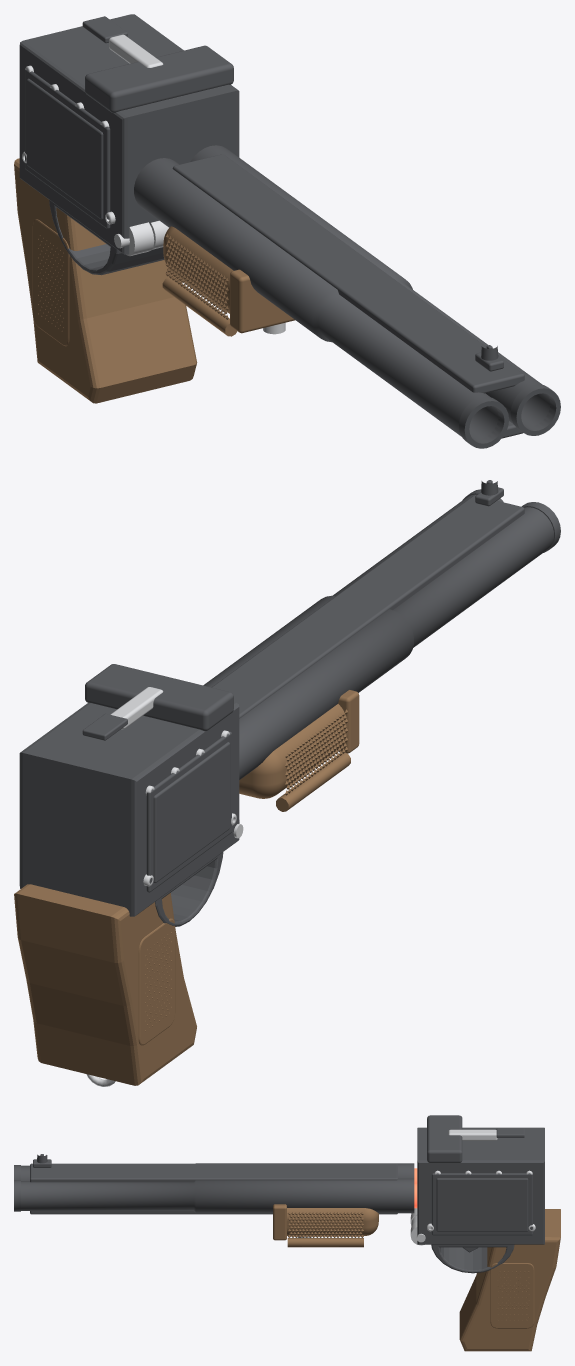
Rendered from sawnoff.glb.
3 views of the same model, one above another, from view 1: azimuth 30°, elevation 25°; view 2: azimuth 150°, elevation 25°; view 3: azimuth 270°, elevation 25° (orthographic). The views are drawn at different scales.
Parts seen in each view (by area): view 1: sawn-off-shotgun, action/gunmetal, action/walnut; view 2: sawn-off-shotgun, action/gunmetal, action/walnut; view 3: sawn-off-shotgun, action/gunmetal, action/walnut.
Boxes of the visible parts, x1,y1,x2,y2 form: sawn-off-shotgun: (14,14,239,403); action/gunmetal: (134,145,560,448); action/walnut: (162,226,294,336); sawn-off-shotgun: (14,664,243,1086); action/gunmetal: (203,480,560,779); action/walnut: (239,690,359,811); sawn-off-shotgun: (410,1115,560,1351); action/gunmetal: (14,1154,414,1214); action/walnut: (273,1204,378,1247).
Bounding box in the file's own units: 0.0776 × 0.2052 × 0.4648.
